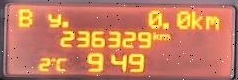-: (59, 20, 68, 27), (161, 21, 168, 28)
0: (174, 10, 190, 29), (146, 9, 162, 28)
2: (120, 30, 135, 47), (59, 29, 74, 46), (37, 57, 50, 70)
3: (105, 30, 120, 47), (74, 29, 88, 47)
4: (109, 52, 126, 71)
6: (89, 30, 104, 47)
9: (127, 52, 144, 72), (85, 52, 102, 71), (135, 30, 151, 48)
X: (17, 7, 32, 26), (190, 10, 203, 29), (204, 14, 219, 29), (46, 13, 61, 26), (54, 56, 66, 71), (151, 30, 159, 40), (159, 33, 169, 40)
